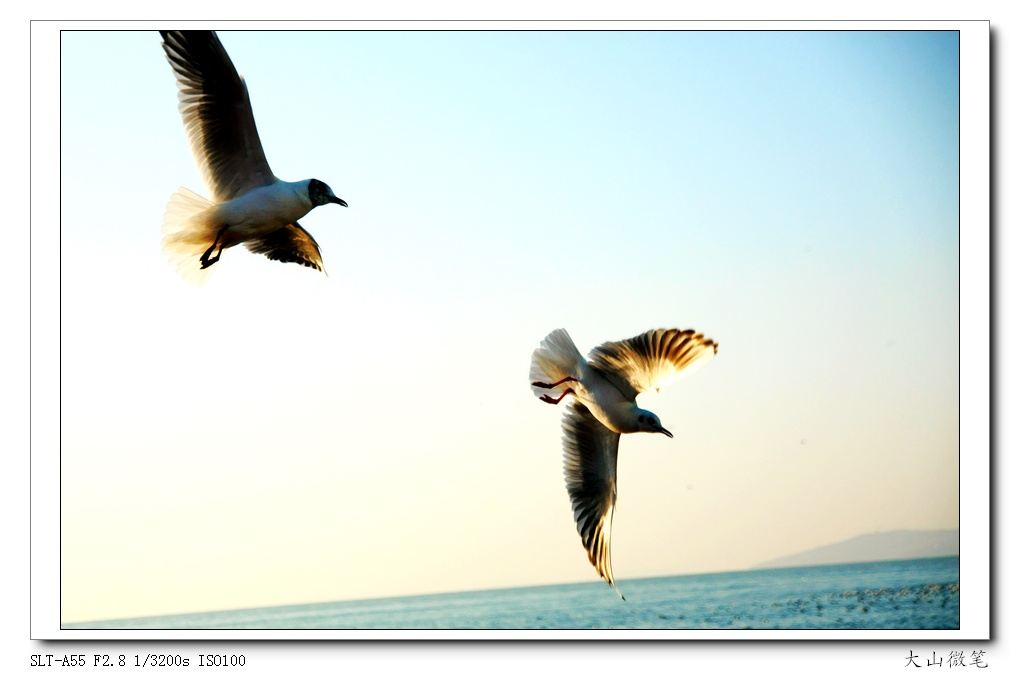bird: (522, 325, 720, 598), (146, 29, 349, 285)
